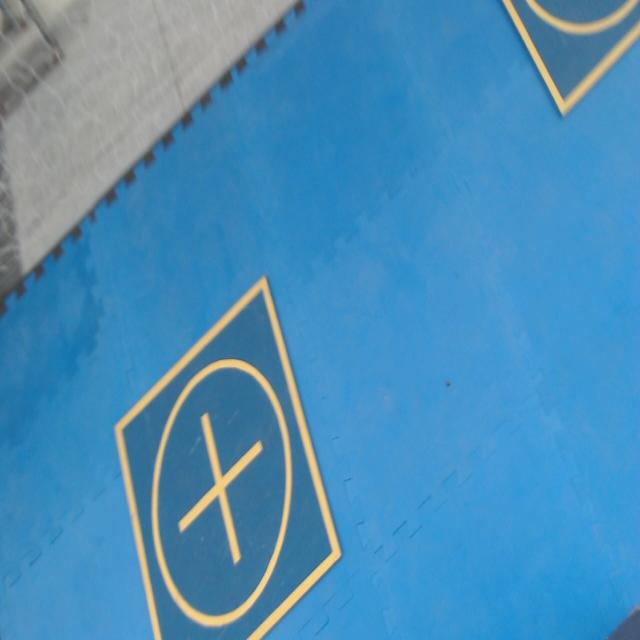base_pouso: (111, 272, 345, 639), (500, 0, 640, 114)
